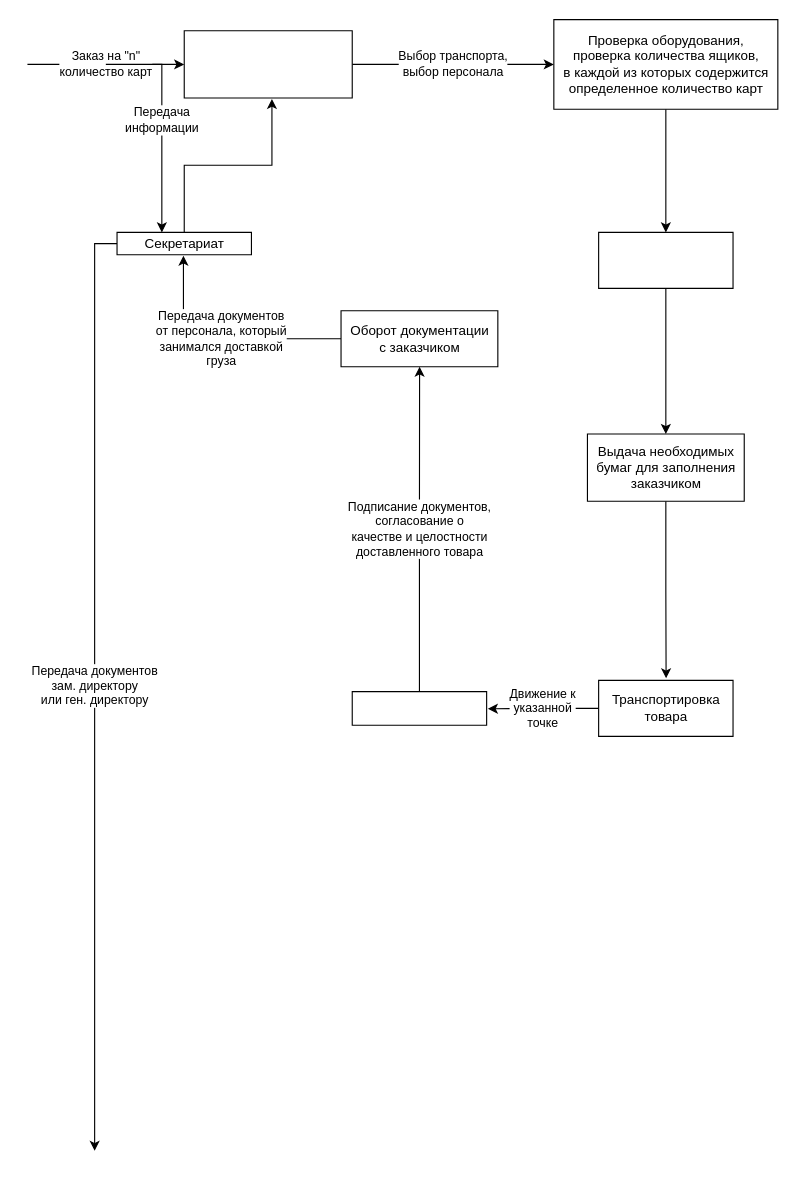
Some shapes in this 797 by 1179 pixel diagram are drawn without their labels. Here are the shapes that lost their labels. From the top down, the centre of each, then its label:
the point at 267,64: Подготовка транспортного средства и персонала
the point at 665,259: Получение точки доставки товара
the point at 419,707: Точка доставки
